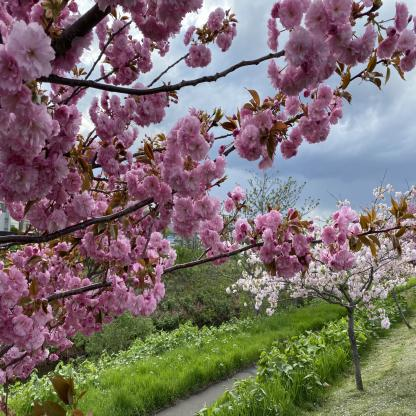YaeSakura: (0, 0, 411, 373)
